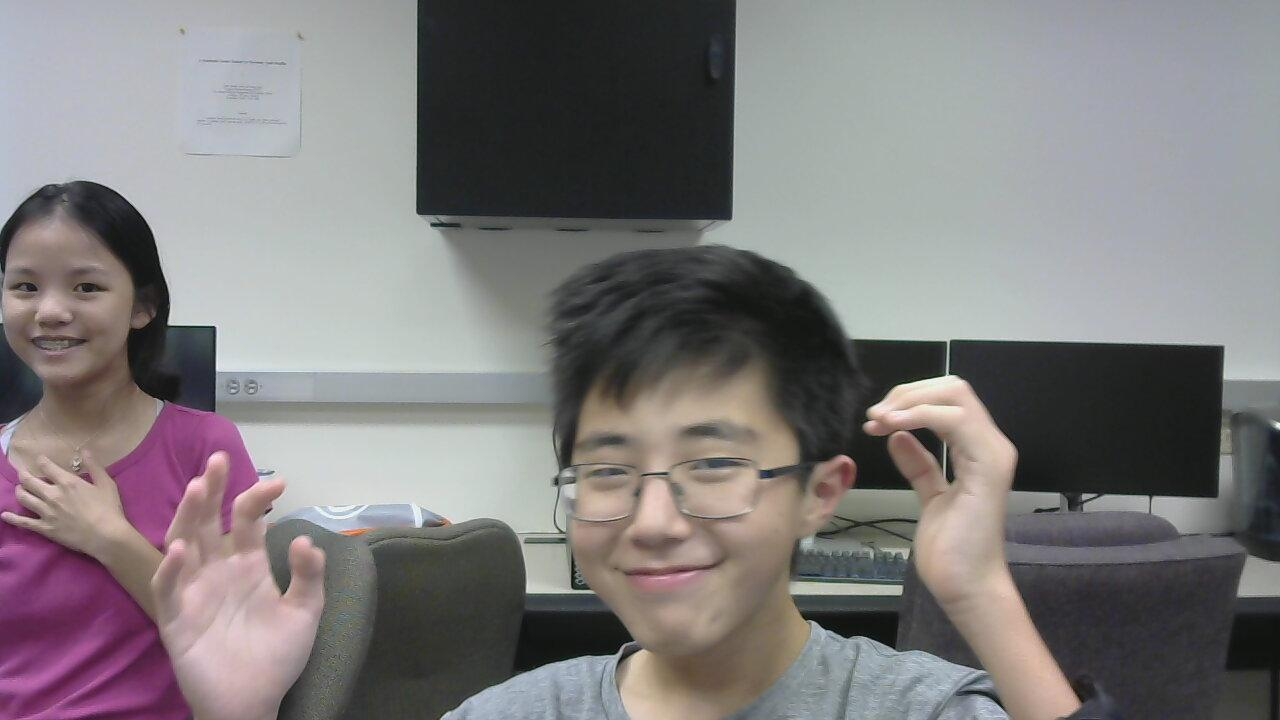hands: (141, 446, 326, 717), (854, 369, 1028, 584), (3, 442, 135, 578)
